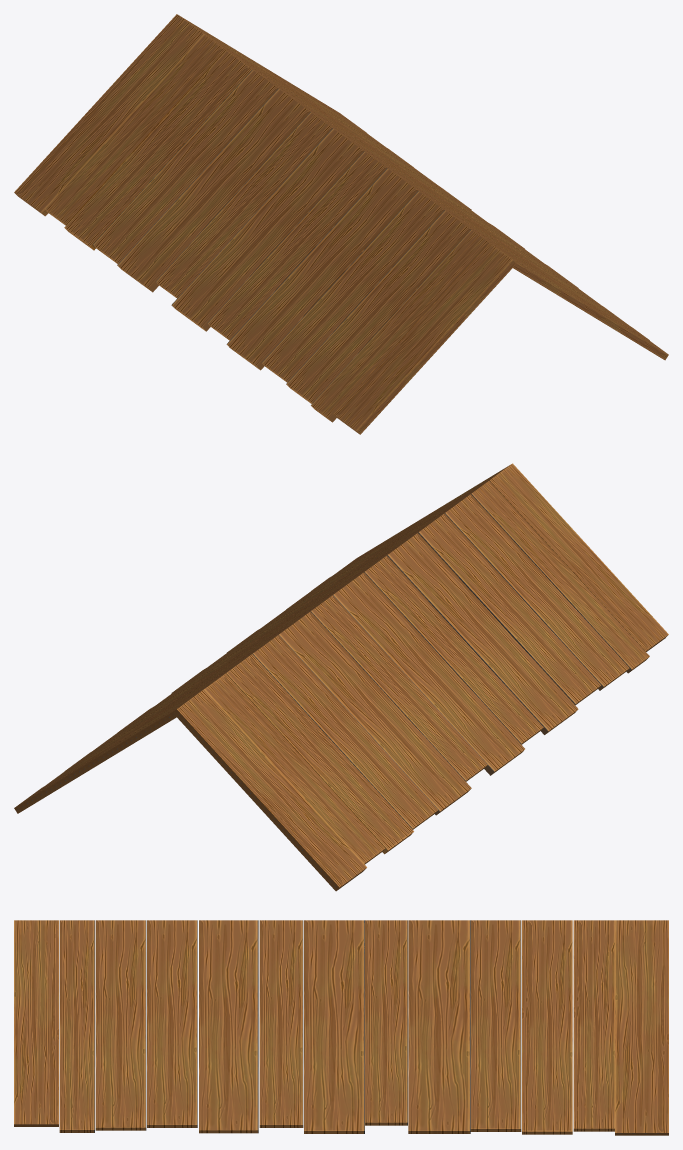
The picture shows the model from 3 angles, top to bottom: view 1: azimuth 30°, elevation 25°; view 2: azimuth 150°, elevation 25°; view 3: azimuth 270°, elevation 25°; orthographic projection. The views are drawn at different scales.
Parts seen in each view (by area): view 1: Cube.566; view 2: Cube.566; view 3: Cube.566.
Part boxes in pixels (x1,y1,x2,y2): Cube.566: (14,14,668,434); Cube.566: (14,463,668,891); Cube.566: (14,920,668,1135).
Bounding box in the file's own units: 713 × 300 × 1273.
1 material, 1 textured.
